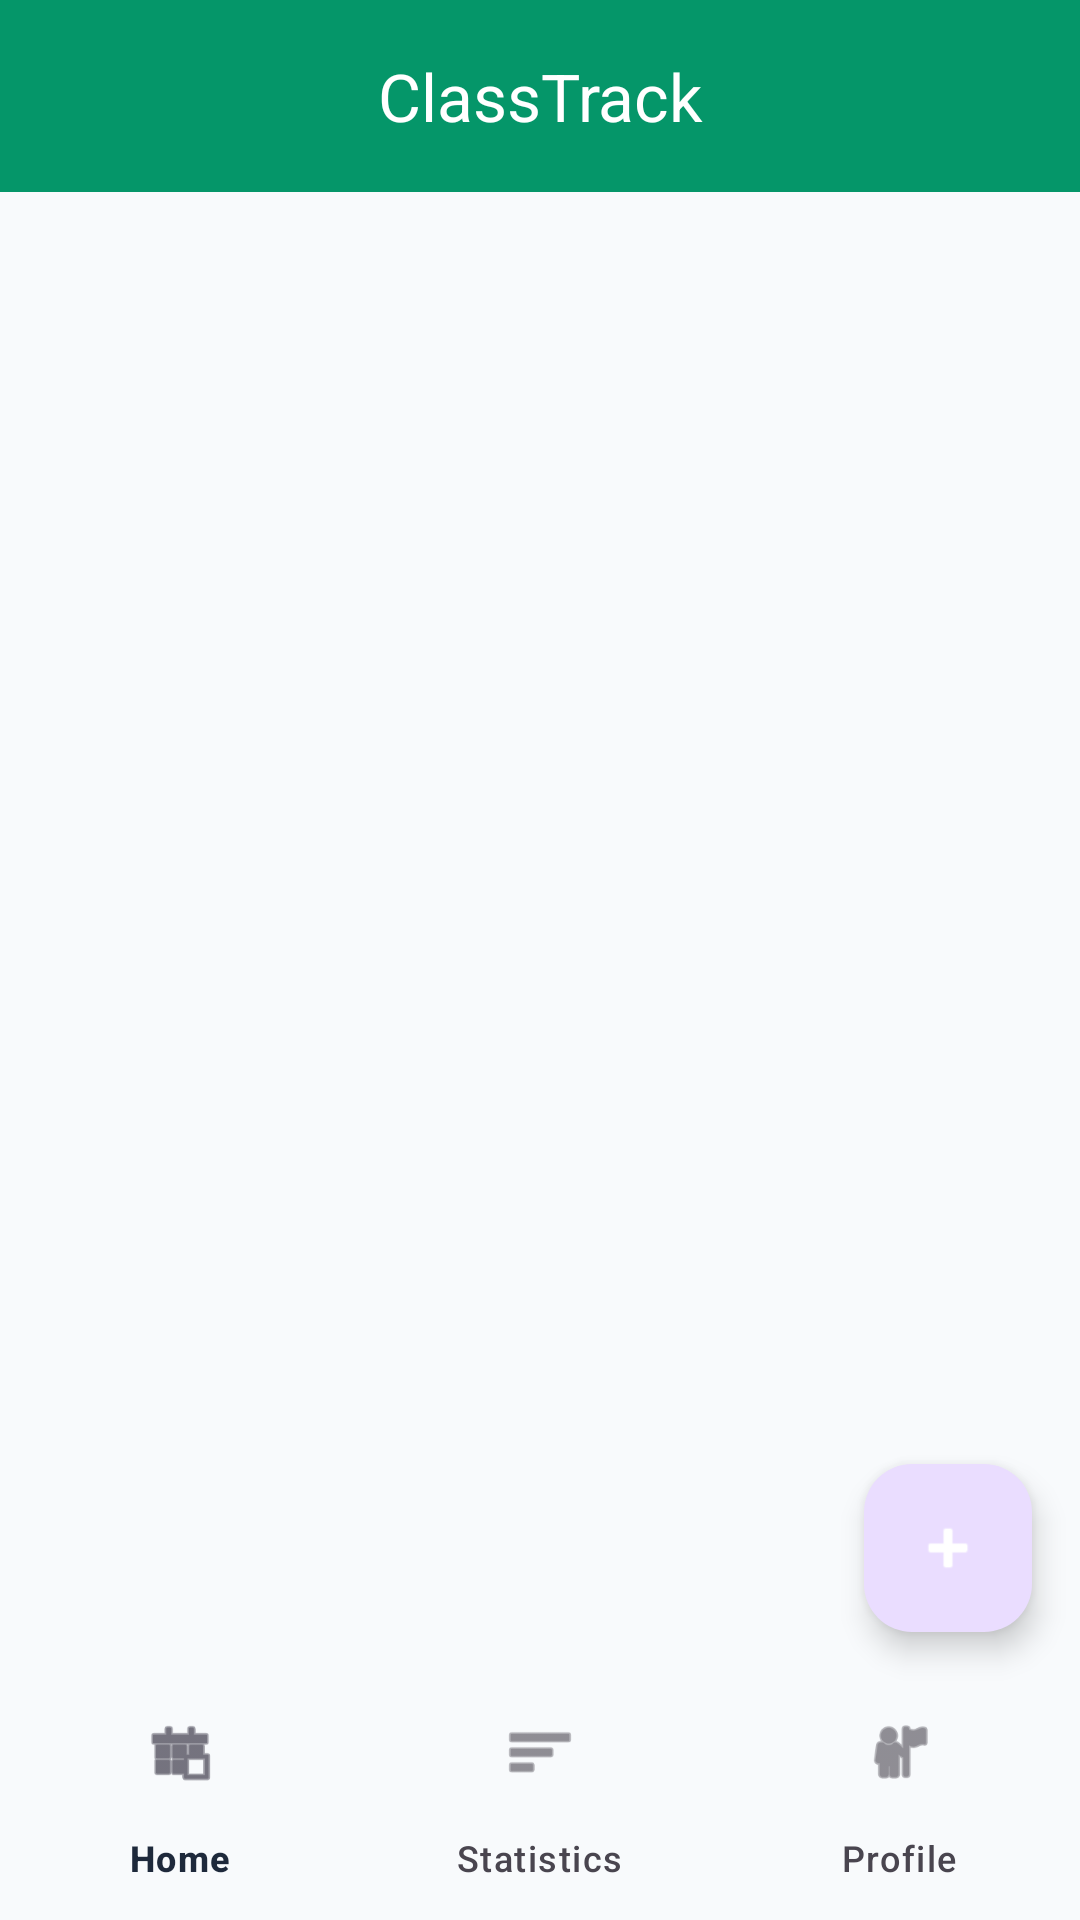

Icons on this 1080 × 1920 Android screen, each with the point to tap as (x=x, y=y):
Add Class: (x=948, y=1548)
